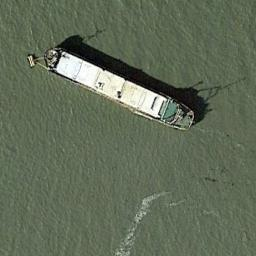boat: (40, 46, 195, 132)
